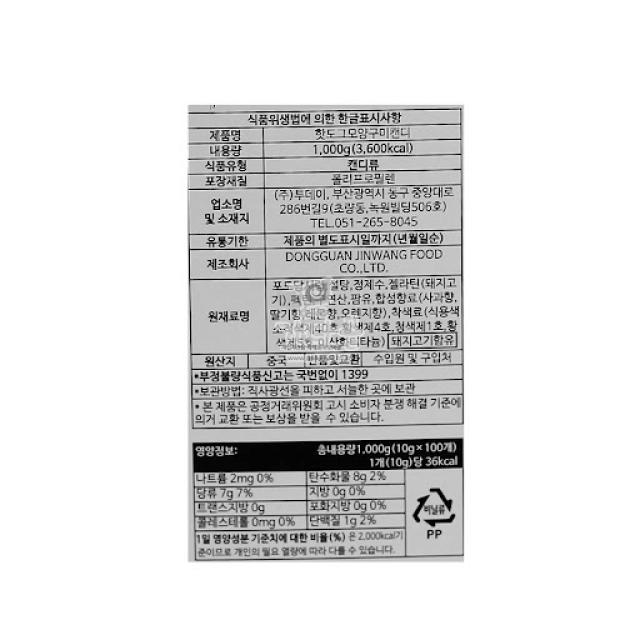Nutrition Label: (188, 431, 473, 571)
